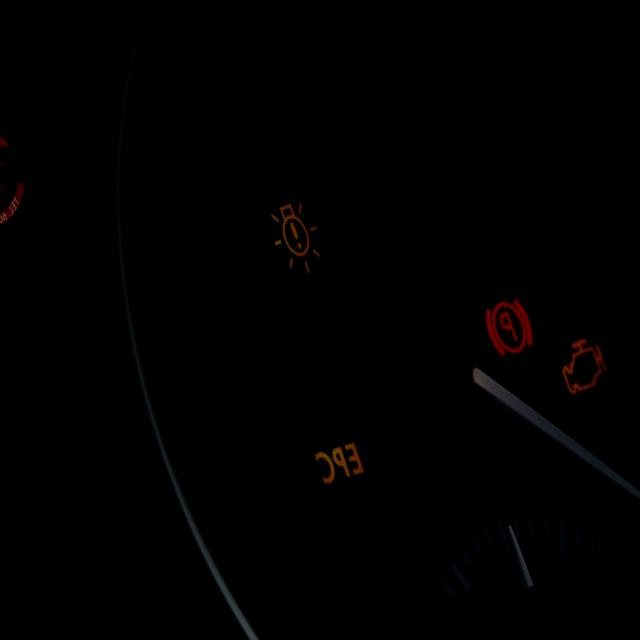kontrolka: (256, 188, 335, 288), (548, 326, 618, 405), (476, 287, 542, 366), (306, 428, 372, 498)
